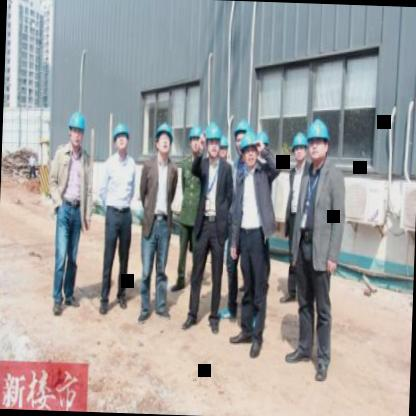helmet: (304, 112, 334, 166), (110, 120, 138, 158), (65, 108, 89, 152), (154, 118, 178, 158), (202, 118, 222, 161), (290, 130, 309, 170), (232, 116, 250, 158), (240, 132, 260, 168), (254, 125, 272, 161), (188, 121, 204, 157), (218, 135, 232, 163)
